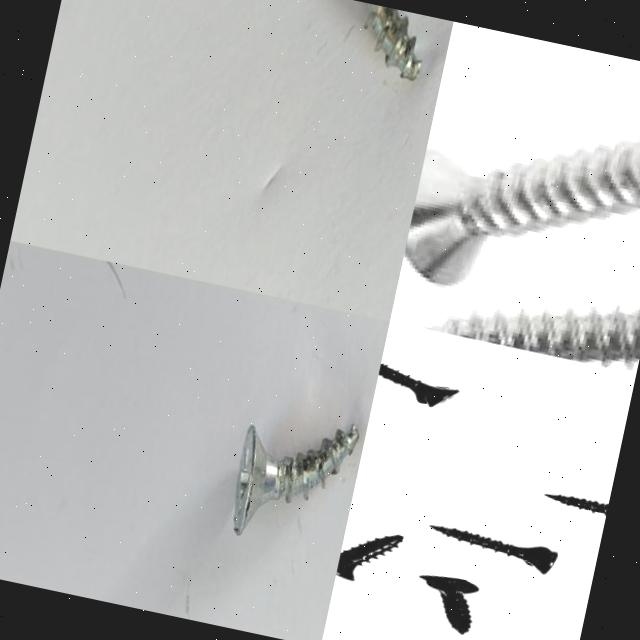Screw: (403, 134, 640, 286), (233, 426, 358, 536), (425, 308, 640, 363), (431, 526, 560, 574), (365, 2, 420, 82), (378, 362, 459, 406), (421, 576, 480, 634), (336, 535, 404, 581), (546, 494, 608, 515)
